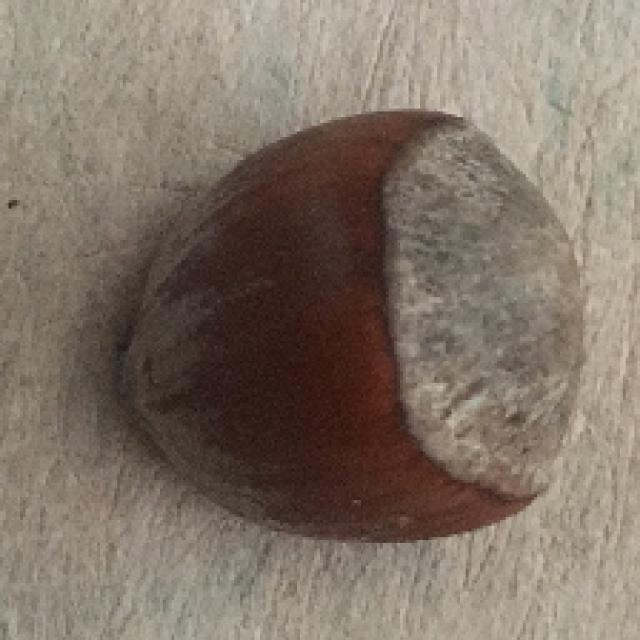qualityHazelnut: (130, 110, 586, 539)
